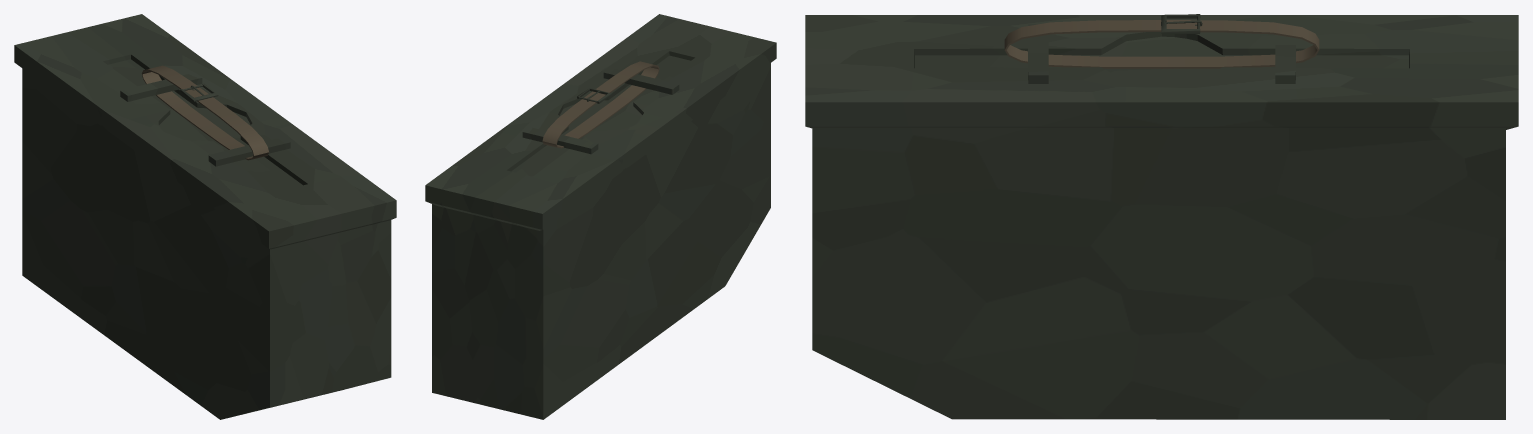
File: Caja1.fbx
The picture shows the model from 3 angles, left to right: view 1: azimuth 30°, elevation 25°; view 2: azimuth 150°, elevation 25°; view 3: azimuth 270°, elevation 25°; orthographic projection. The views are drawn at different scales.
Parts seen in each view (by area): view 1: Caja1; view 2: Caja1; view 3: Caja1.
Boxes of the visible parts, x1,y1,x2,y2 form: Caja1: (14, 14, 396, 419); Caja1: (425, 14, 776, 419); Caja1: (805, 14, 1518, 419).
Size of the model in its own units: 10.76 by 20.57 by 37.18.
1 material, 1 textured.
